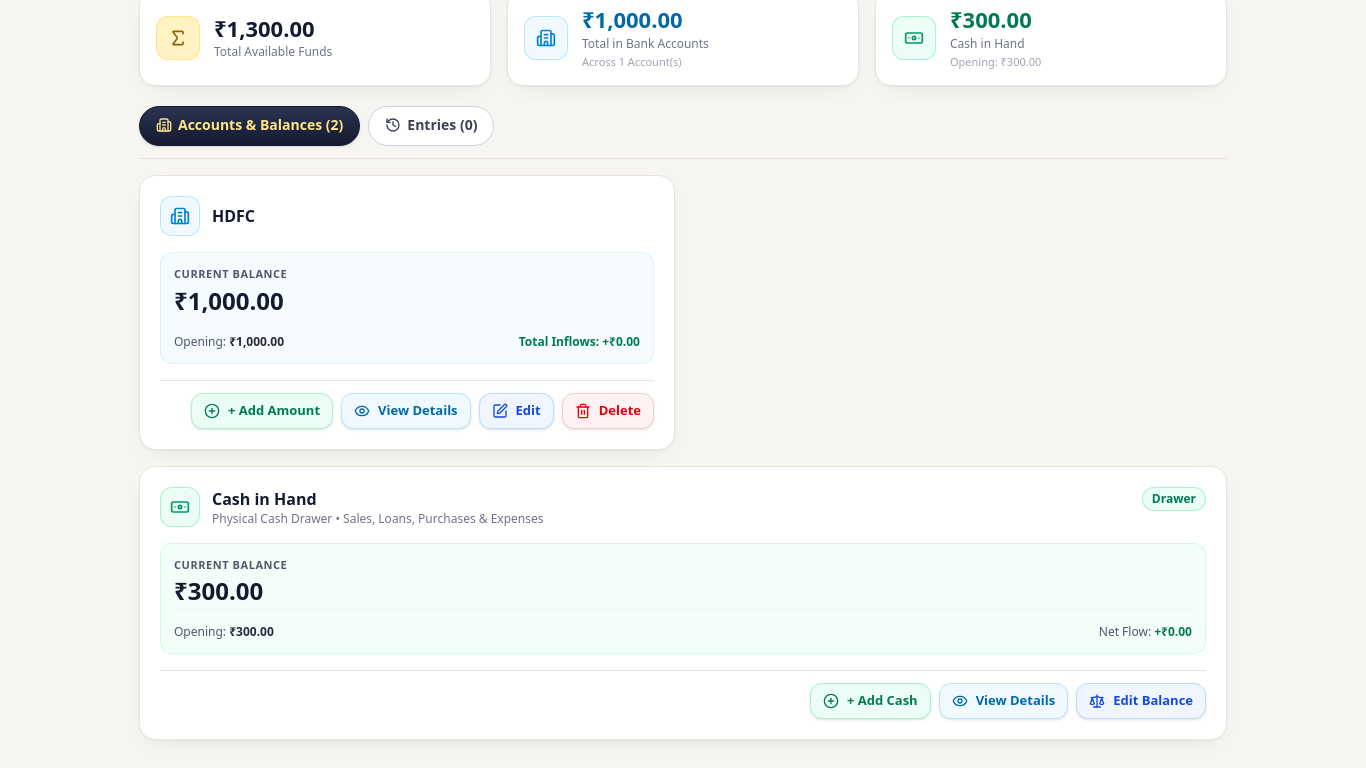
Test case: BankAccountsPage › has no Transfer Funds and saves a cash Edit Balance as one entry (cash settings untouched)
The width and height of the screenshot is (1366, 768).
(page scrolled)
Check: the heading "HDFC" is shown, box 212,204 -> 255,228
Click the button "Edit Balance" at [1141, 701], box 1076,683 -> 1206,719
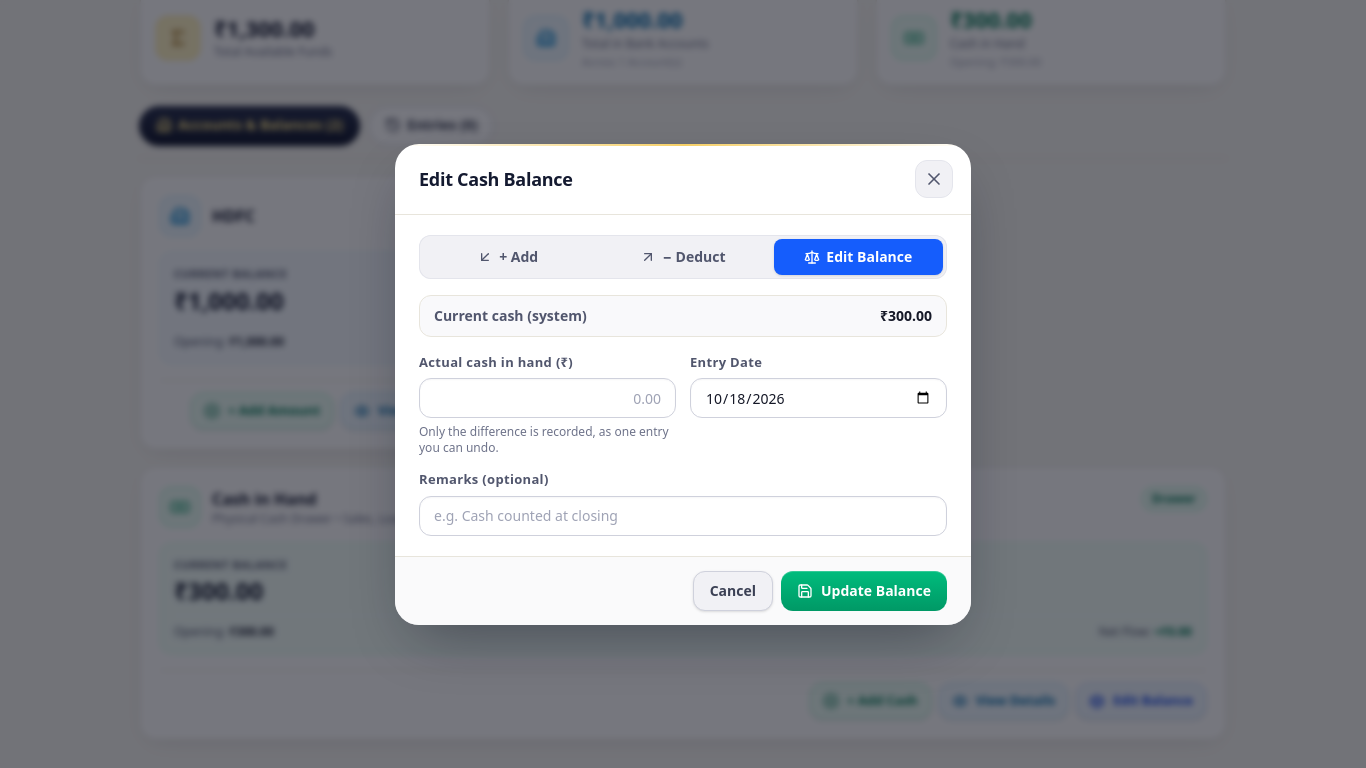
Type "500" into the field labelled "Actual cash in hand (₹)" at [548, 398], box 419,378 -> 676,418
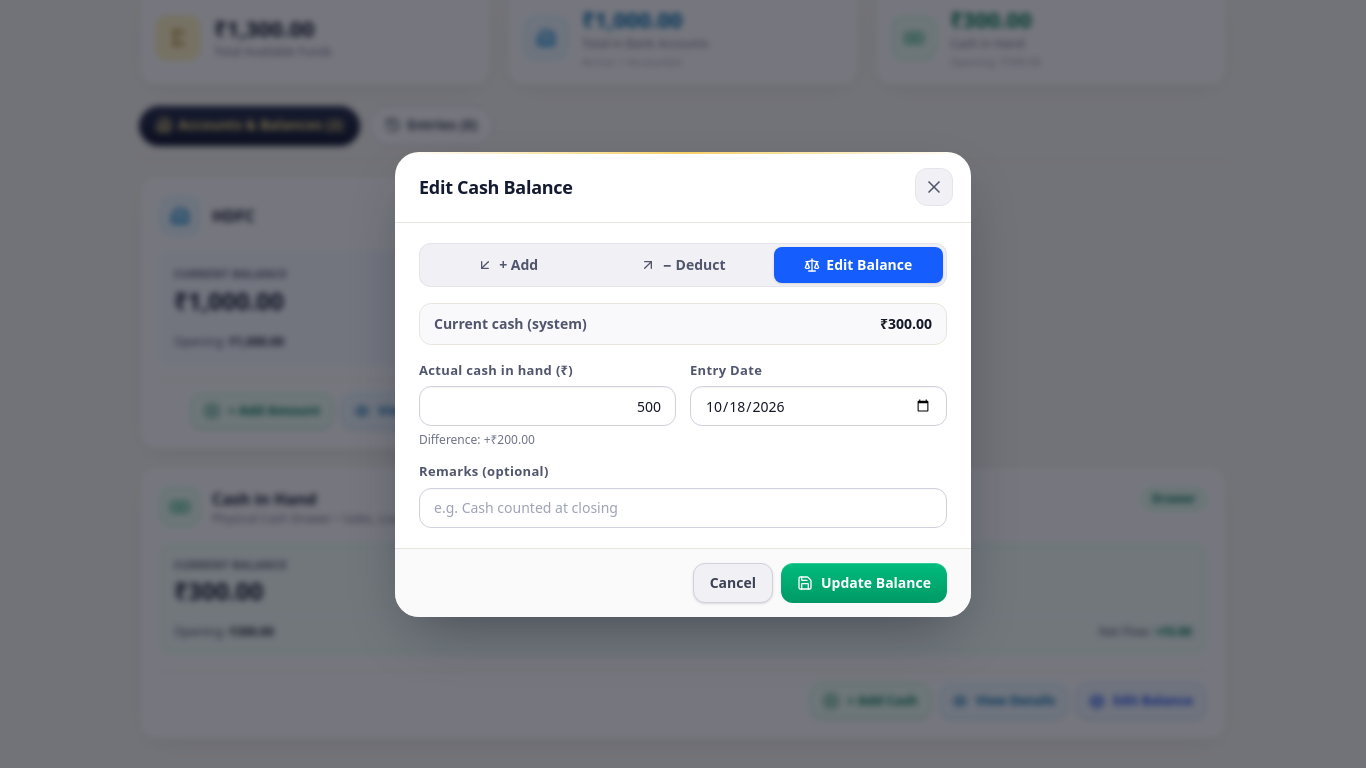
Click the button "Update Balance" at [864, 582], box 781,562 -> 947,602
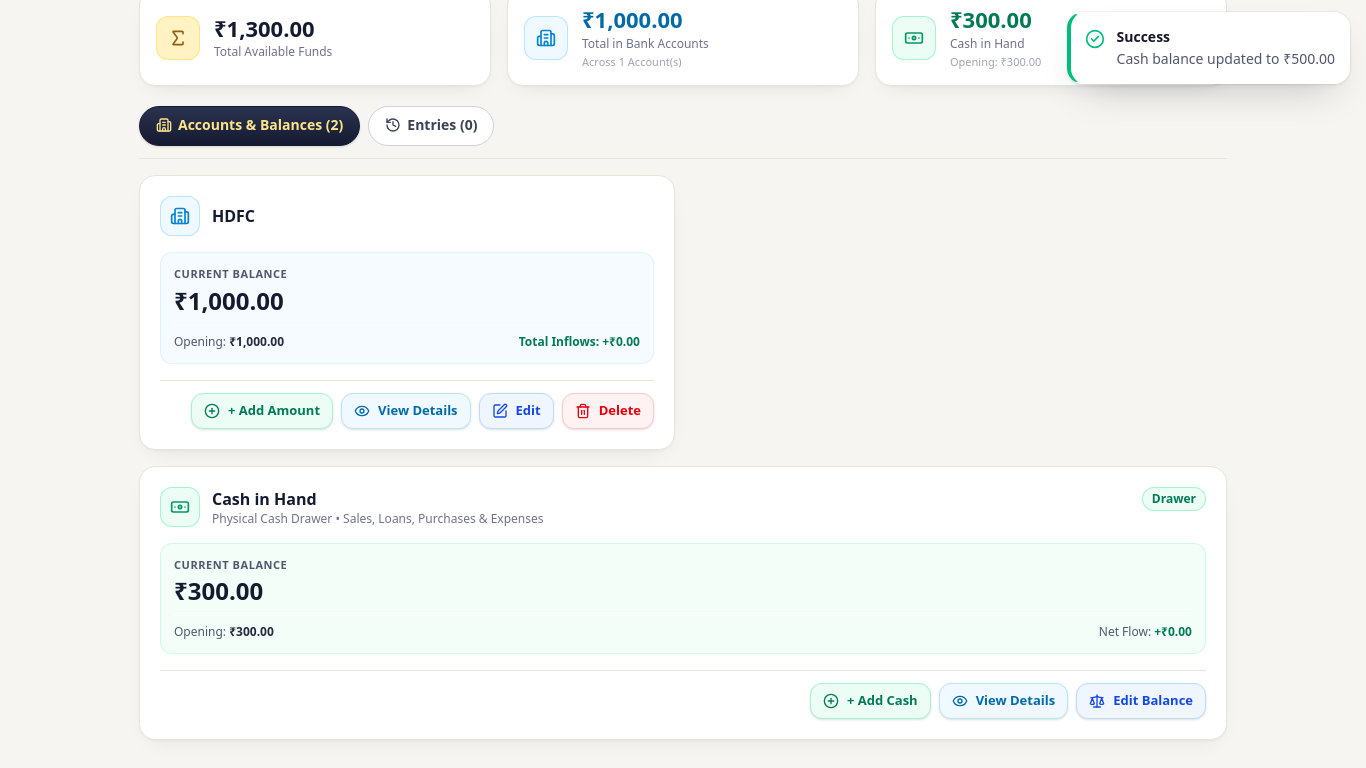
Check: the text "Cash balance updated to ₹500.00" is shown, box 1117,49 -> 1335,69
